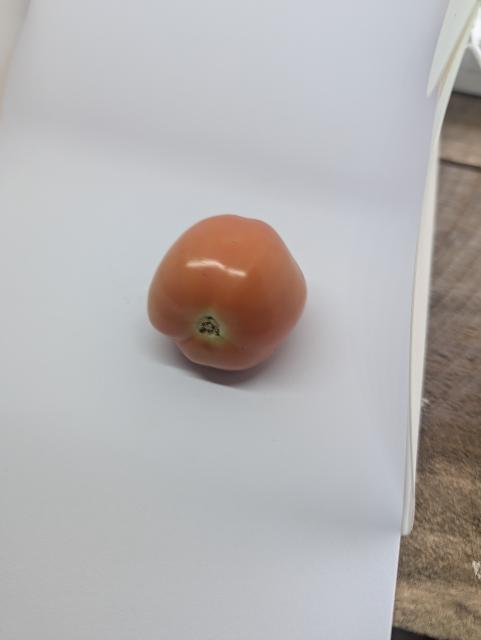turning: (143, 210, 310, 376)
